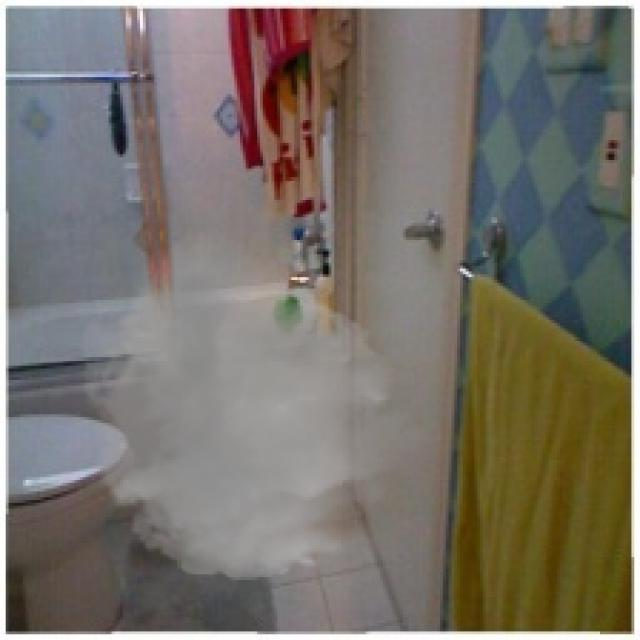smoke: (66, 232, 437, 588)
